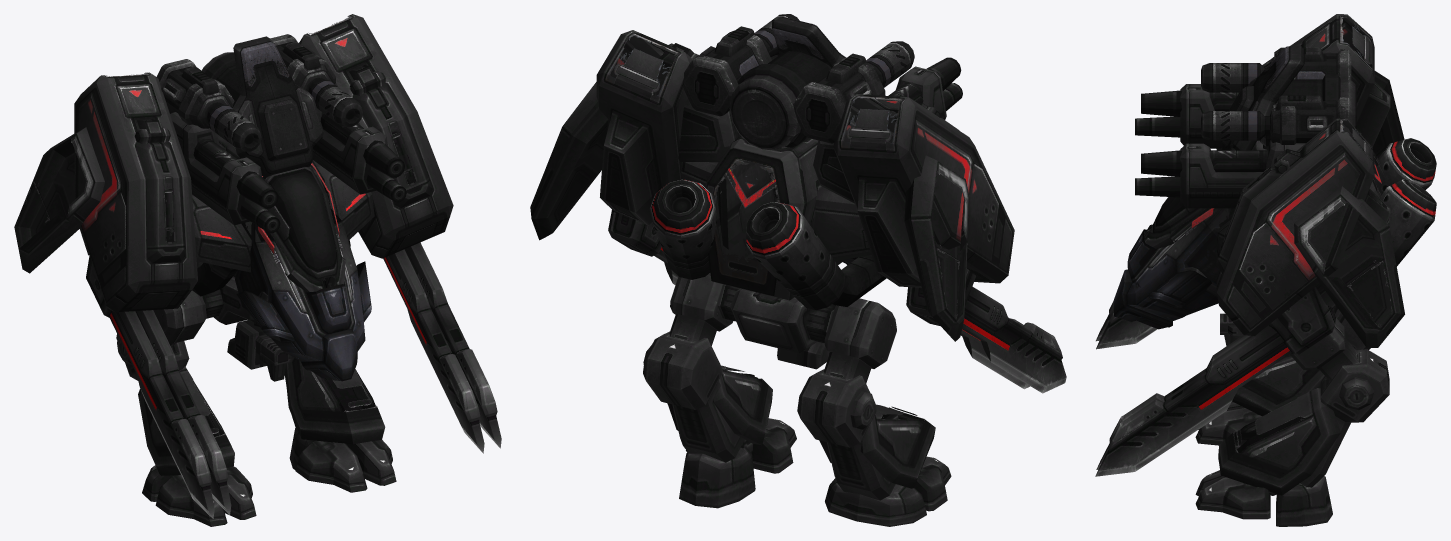
File: Goliath.obj
3 views of the same model, side by side, from view 1: azimuth 30°, elevation 25°; view 2: azimuth 150°, elevation 25°; view 3: azimuth 270°, elevation 25° (orthographic). The views are drawn at different scales.
Visible parts, largest first — view 1: Shadow_GoliathElite.m3.005; view 2: Shadow_GoliathElite.m3.005; view 3: Shadow_GoliathElite.m3.005.
Boxes of the visible parts, bbox=[...] form: Shadow_GoliathElite.m3.005: bbox=[14, 14, 501, 526]; Shadow_GoliathElite.m3.005: bbox=[530, 14, 1066, 526]; Shadow_GoliathElite.m3.005: bbox=[1095, 14, 1436, 526].
Bounding box in the file's own units: 3.23 × 3.55 × 2.57.
Materials: 6 (6 with a texture image).
